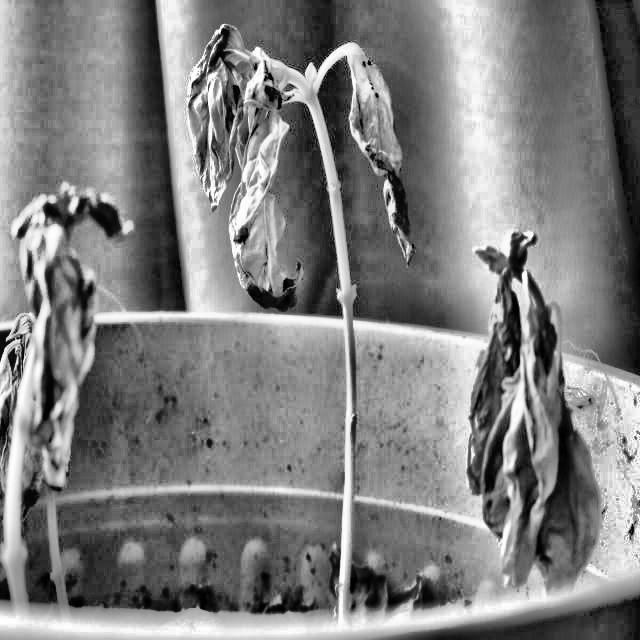plants: (173, 5, 426, 640), (0, 156, 149, 640), (463, 225, 602, 609)
